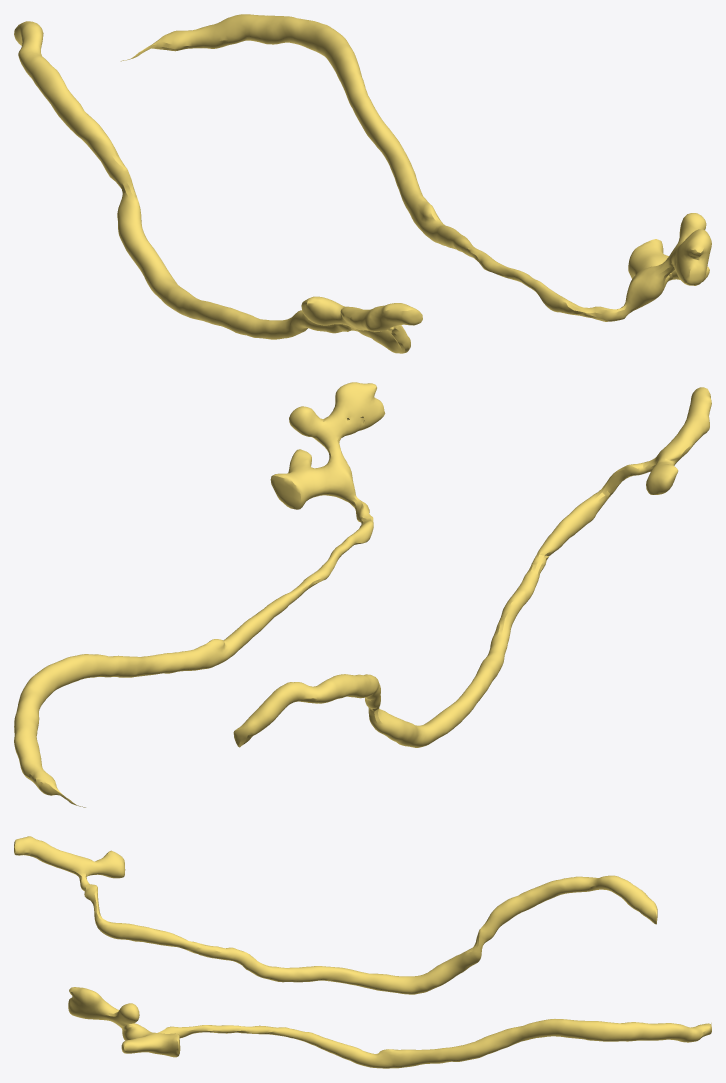
The model's file is 输尿管.obj.
3 renders of one model, top to bottom at view 1: azimuth 30°, elevation 25°; view 2: azimuth 150°, elevation 25°; view 3: azimuth 270°, elevation 25°, orthographic. The views are drawn at different scales.
Visible parts, largest first — view 1: 4; view 2: 4; view 3: 4.
Part boxes in pixels (box(x1,y1,x2,y2)): 4: box(14, 14, 711, 353); 4: box(14, 382, 711, 807); 4: box(14, 836, 711, 1068).
Bounding box in the file's own units: 125 × 57.81 × 255.
